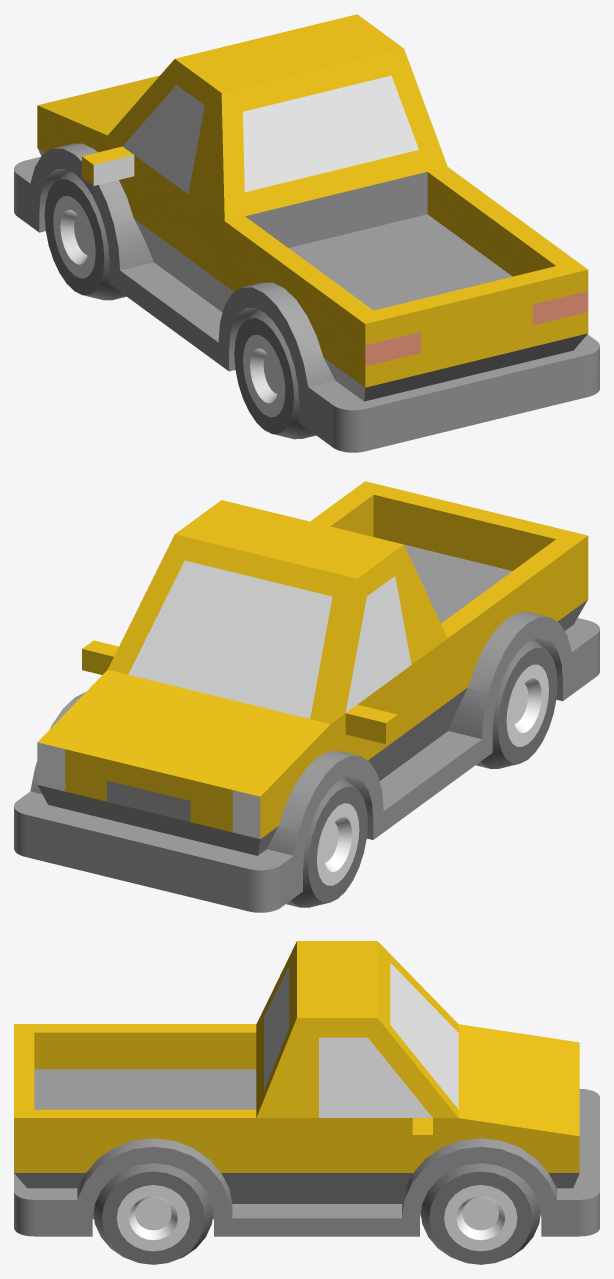
File: truck.glb
3 views of the same model, one above another, from view 1: azimuth 30°, elevation 25°; view 2: azimuth 150°, elevation 25°; view 3: azimuth 270°, elevation 25° (orthographic). The views are drawn at different scales.
Parts seen in each view (by area): view 1: body, wheel_backLeft, wheel_frontLeft; view 2: body, wheel_backLeft, wheel_frontLeft; view 3: body, wheel_backRight, wheel_frontRight.
Part boxes in pixels (x1,y1,x2,y2): body: (14,14,599,452); wheel_backLeft: (234,309,315,439); wheel_frontLeft: (44,170,126,300); body: (14,481,599,912); wheel_backLeft: (476,639,557,768); wheel_frontLeft: (286,778,367,907); body: (14,941,599,1236); wheel_backRight: (93,1163,213,1264); wheel_frontRight: (421,1163,540,1264).
Bounding box in the file's own units: 1.5 × 1.3 × 2.9.
